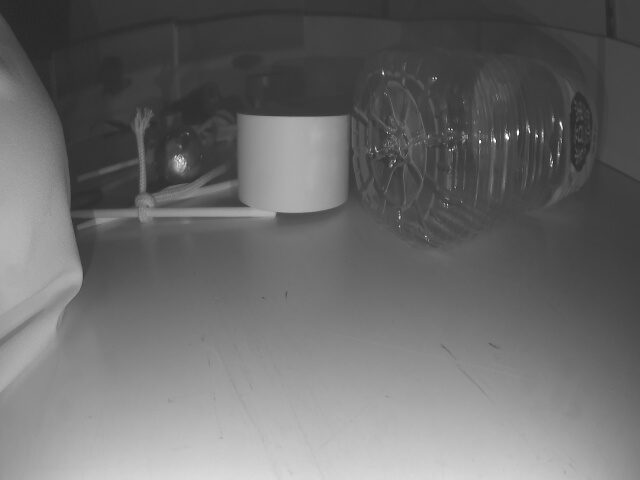Live: (155, 127, 202, 184)
